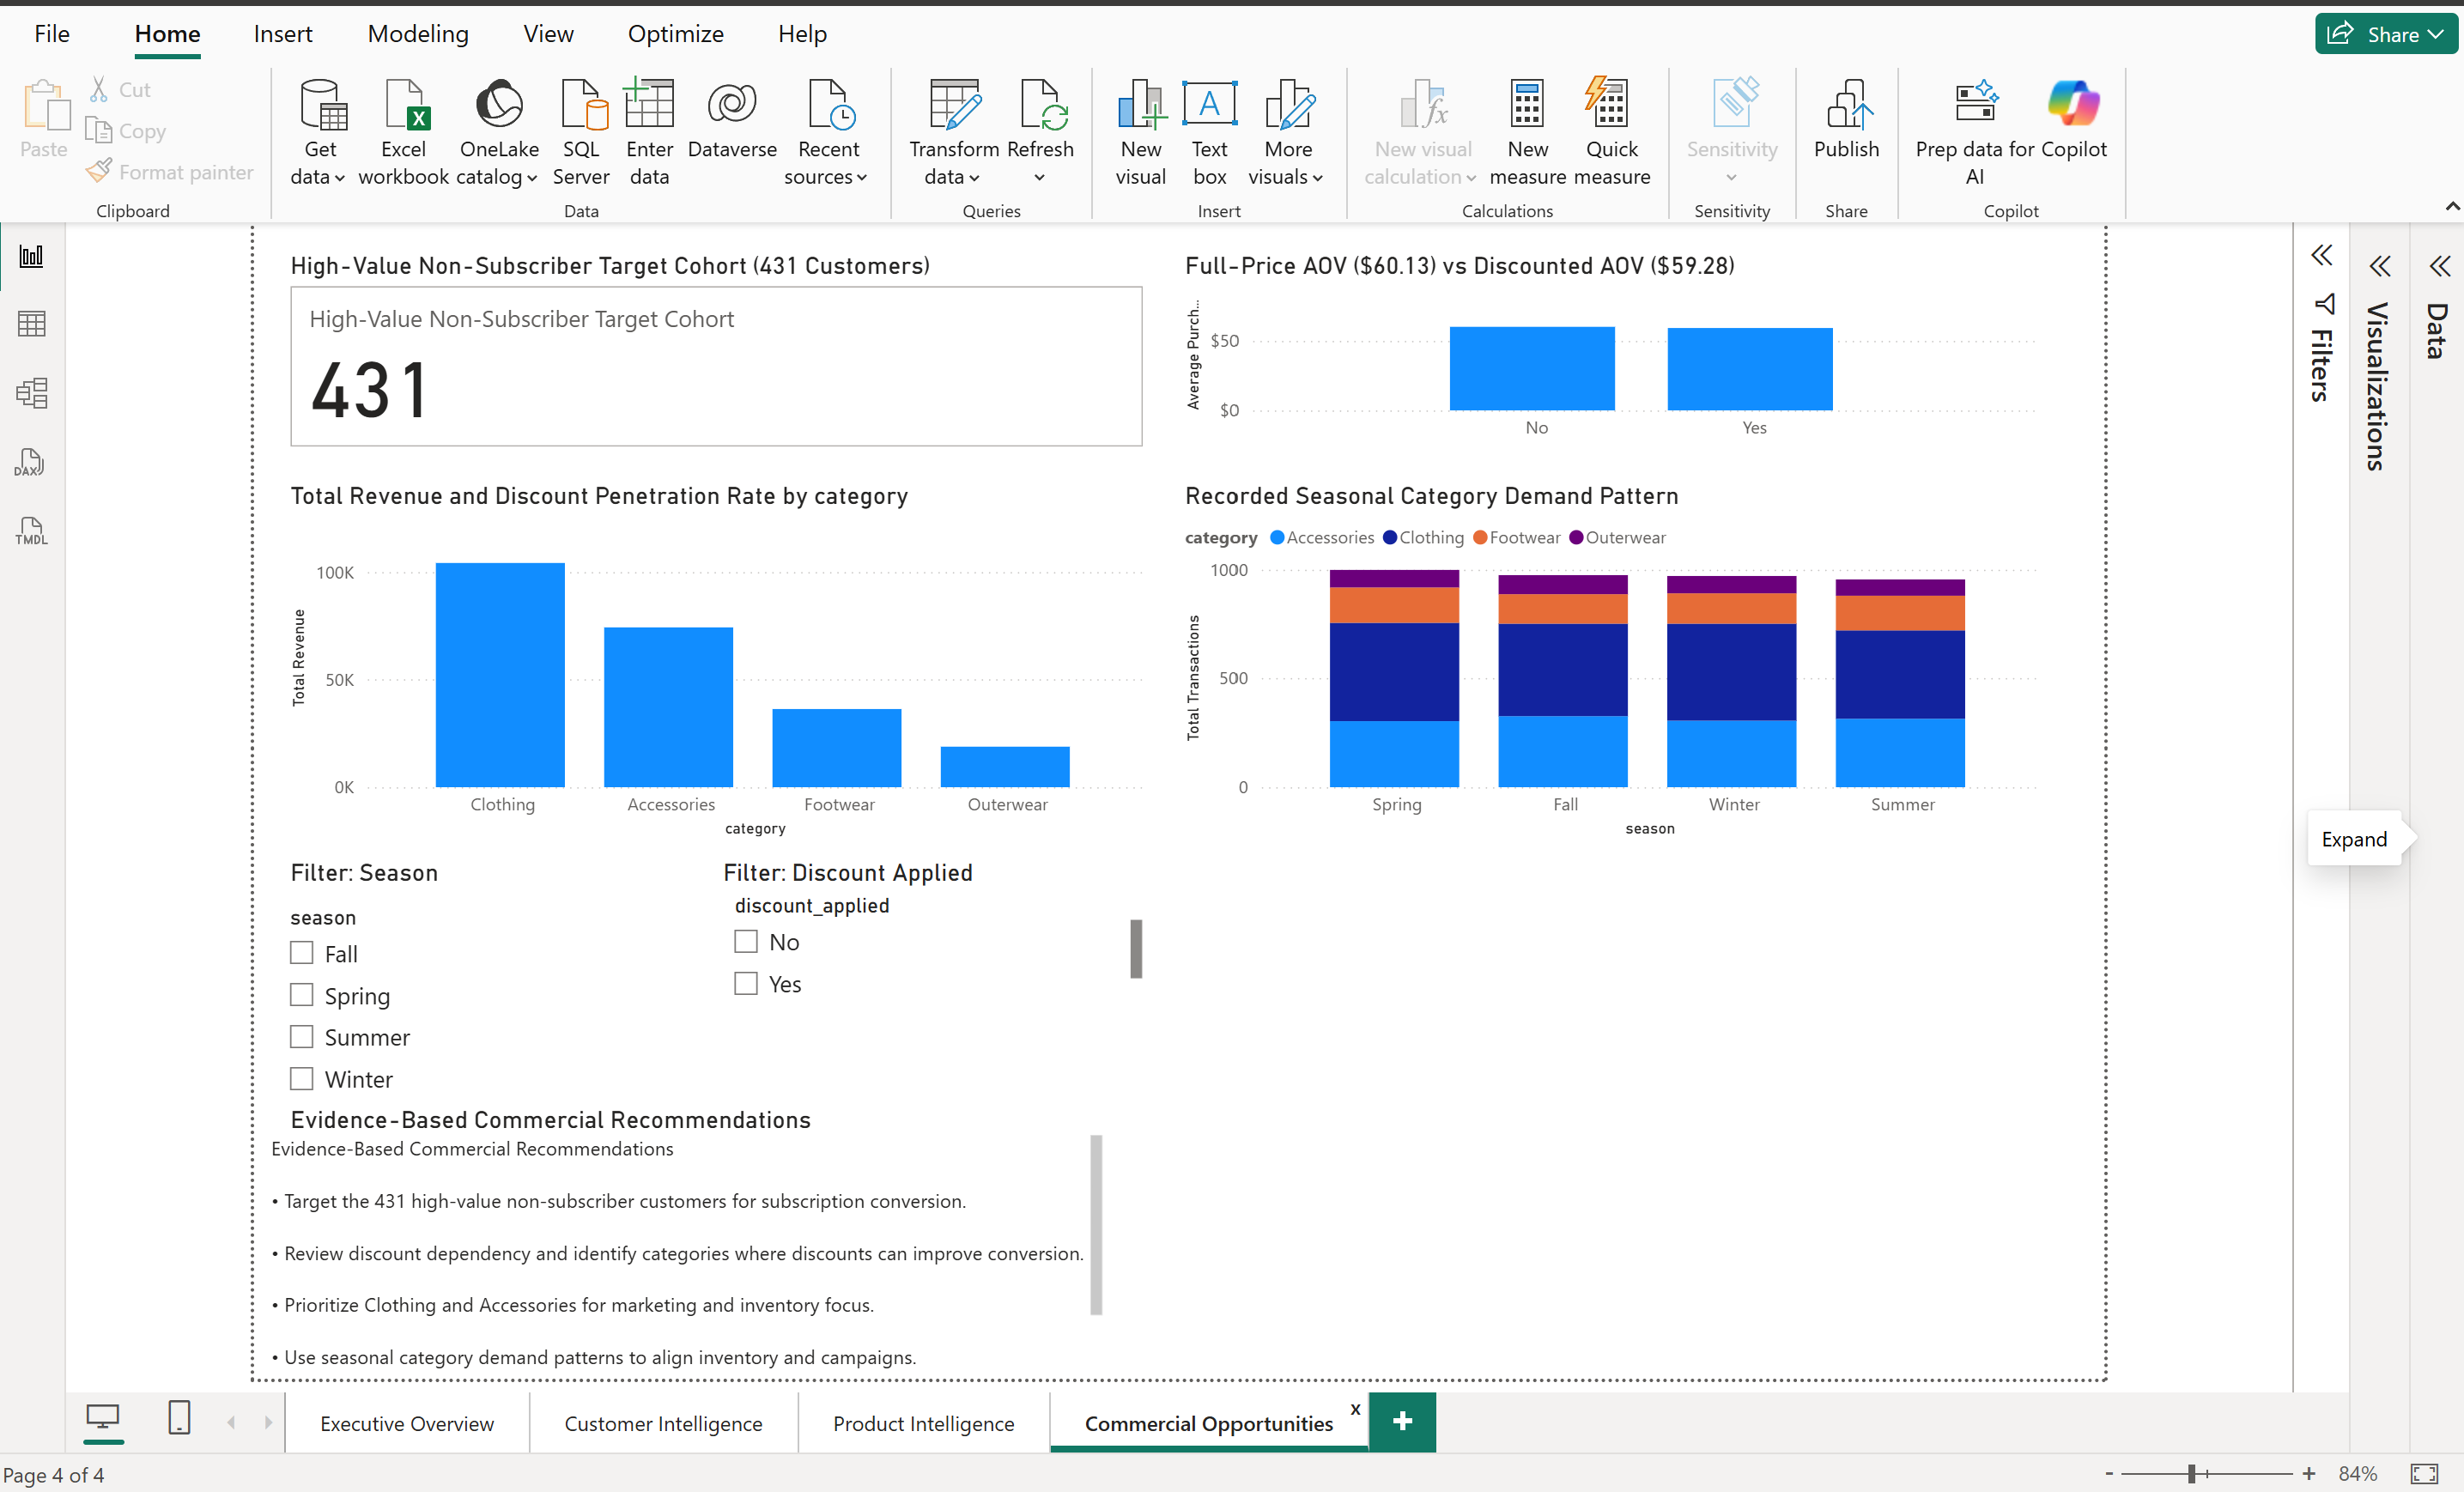

The page's visual inventory and layout, read from the dashboard file:
{"tool":"powerbi","page":{"name":"Commercial Opportunities","canvas":[1280,800],"ordinal":3},"visuals":[{"type":"cardVisual","title":"High-Value Non-Subscriber Target Cohort (431 Customers)","box":[20,20,600,140],"z":1000},{"type":"barChart","title":"Full-Price AOV ($60.13) vs Discounted AOV ($59.28)","box":[640,20,600,140],"z":1000},{"type":"scatterPlot","title":"Category Revenue vs Discount Dependency Matrix","box":[20,180,600,250],"z":1000},{"type":"columnChart","title":"Recorded Seasonal Category Demand Pattern","box":[640,180,600,250],"z":1000},{"type":"slicer","title":"Filter: Season","box":[20,440,280,100],"z":1000},{"type":"slicer","title":"Filter: Discount Applied","box":[320,440,300,100],"z":1000},{"type":"textbox","title":"Evidence-Based Commercial Recommendations","box":[20,550,1220,230],"z":1000}]}

Visuals, with their boxes on the page's 1280x800 design canvas (x1, y1, x2, y2). These are canvas units, not pixel positions in the 2464x1492 screenshot, which may show the page scaled, cropped or inside an application window:
"High-Value Non-Subscriber Target Cohort (431 Customers)" cardVisual: x1=20 y1=20 x2=620 y2=160
"Full-Price AOV ($60.13) vs Discounted AOV ($59.28)" barChart: x1=640 y1=20 x2=1240 y2=160
"Category Revenue vs Discount Dependency Matrix" scatterPlot: x1=20 y1=180 x2=620 y2=430
"Recorded Seasonal Category Demand Pattern" columnChart: x1=640 y1=180 x2=1240 y2=430
"Filter: Season" slicer: x1=20 y1=440 x2=300 y2=540
"Filter: Discount Applied" slicer: x1=320 y1=440 x2=620 y2=540
"Evidence-Based Commercial Recommendations" textbox: x1=20 y1=550 x2=1240 y2=780
